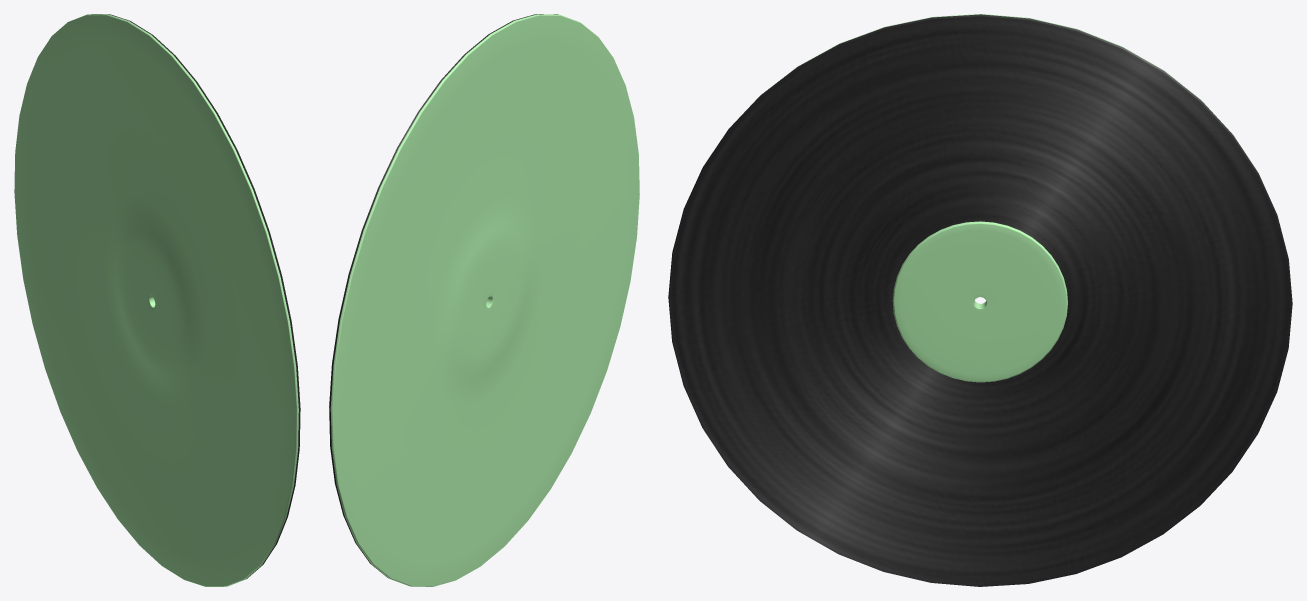
File: Vinyl_L4.fbx
3 renders of one model, left to right at view 1: azimuth 30°, elevation 25°; view 2: azimuth 150°, elevation 25°; view 3: azimuth 270°, elevation 25°, orthographic. The views are drawn at different scales.
Parts seen in each view (by area): view 1: Vinyl_L_4; view 2: Vinyl_L_4; view 3: Vinyl_L_4.
Boxes of the visible parts, x1=… form: Vinyl_L_4: x1=14, y1=14, x2=300, y2=586; Vinyl_L_4: x1=329, y1=14, x2=639, y2=586; Vinyl_L_4: x1=668, y1=14, x2=1292, y2=586.
Bounding box in the file's own units: 0.1353 × 3.26 × 3.26.
Materials: 2 (1 with a texture image).
